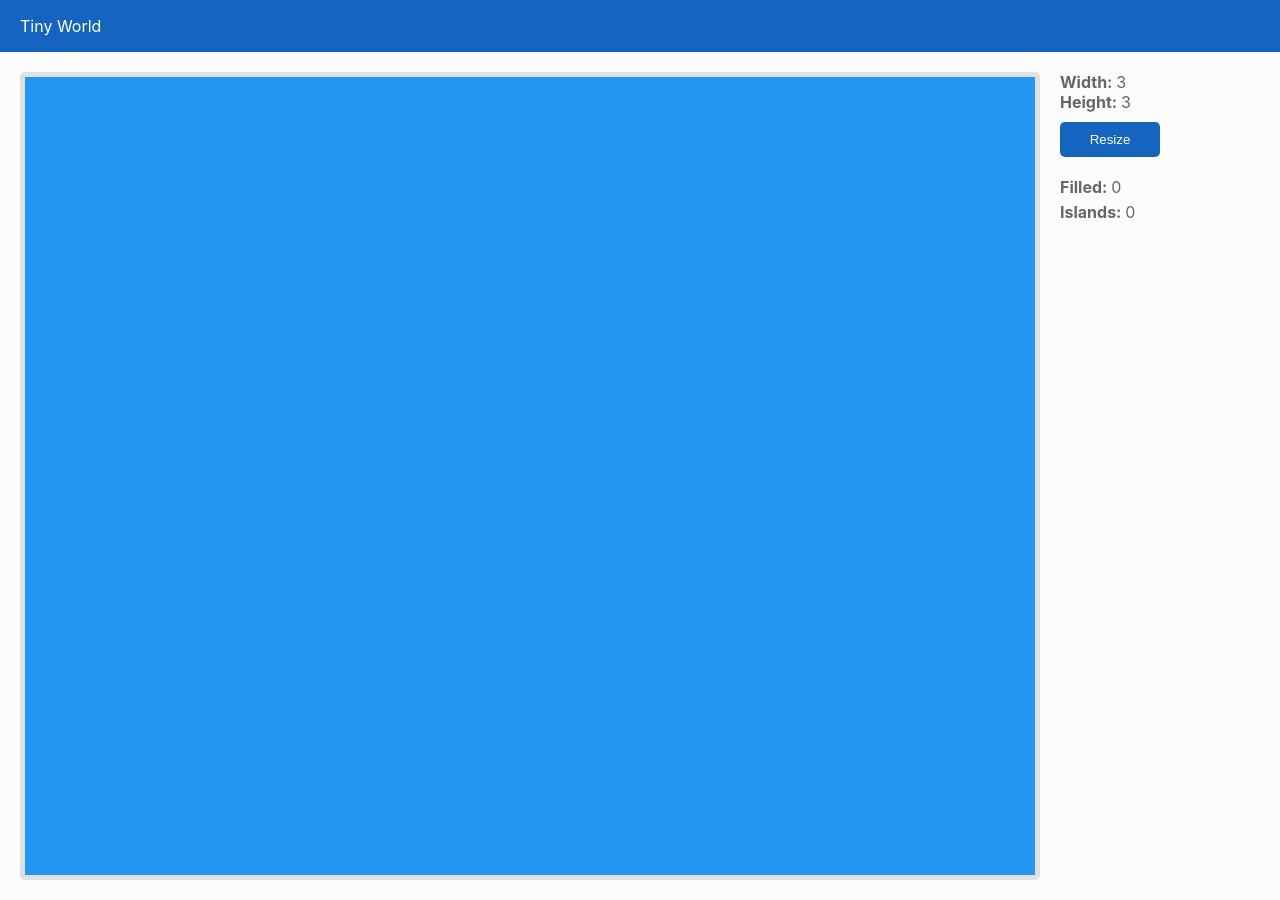
App › grid interaction
Click the 1st cell at (193, 210), box [25,77,362,343]
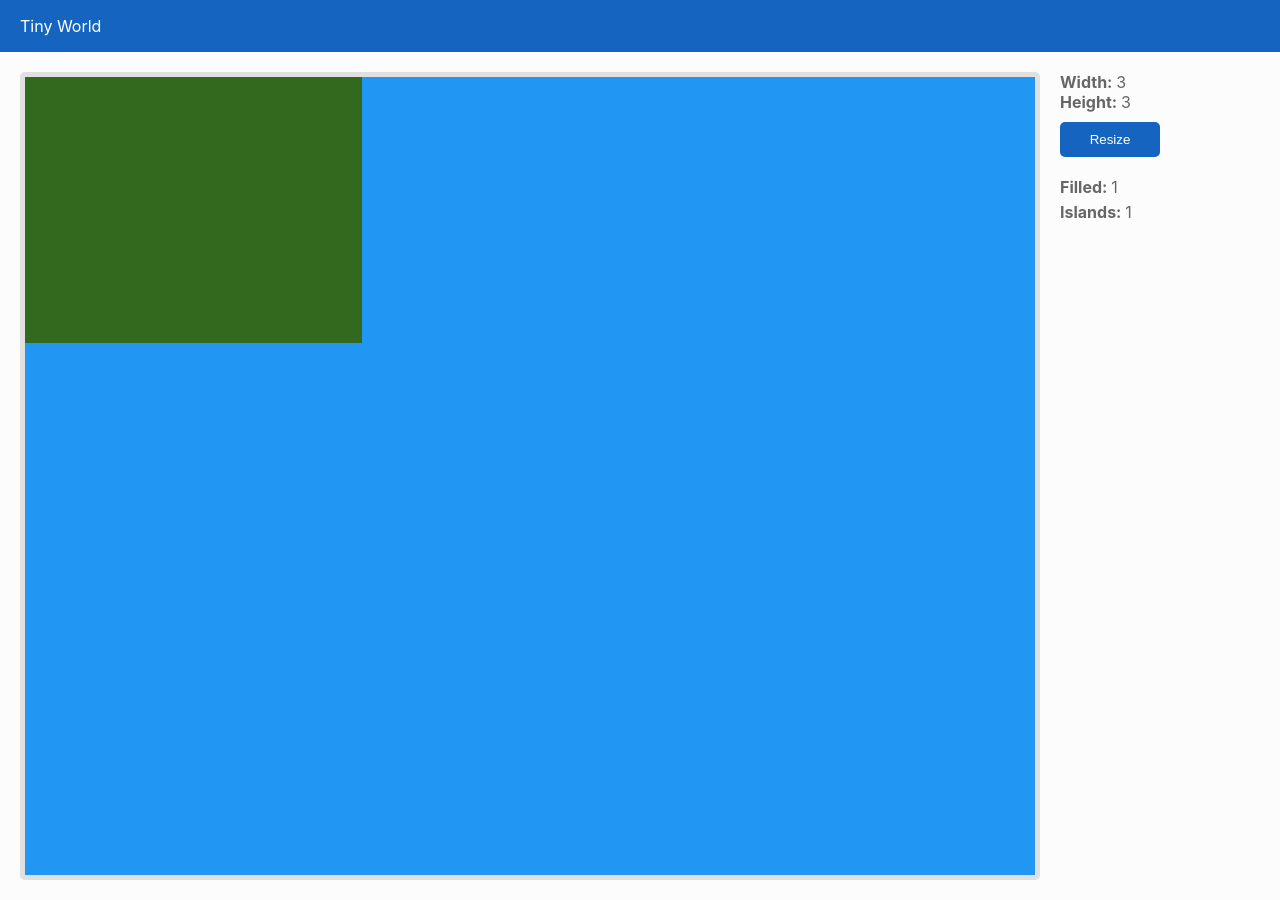
Check: the 1st cell has class "grid-cell--filled", box [25,77,362,343]
Click the 2nd cell at (530, 210), box [362,77,698,343]
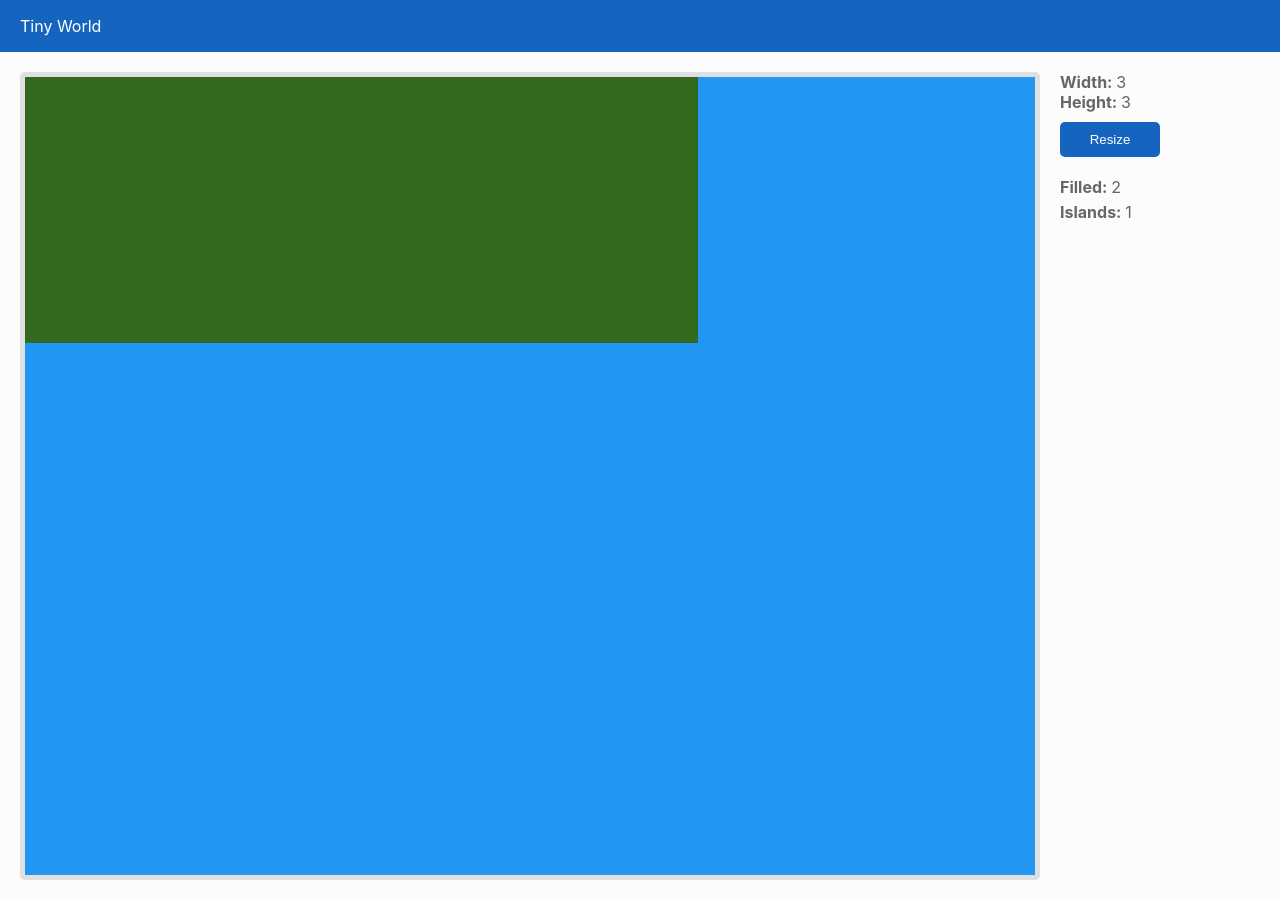
Check: the text named "Width:" reads "3", box [1116,72,1126,92]
Check: the text named "Islands:" reads "1", box [1125,202,1132,222]
Check: the text named "Filled:" reads "2", box [1111,177,1121,197]
Click the 6th cell at (867, 476), box [698,343,1035,609]
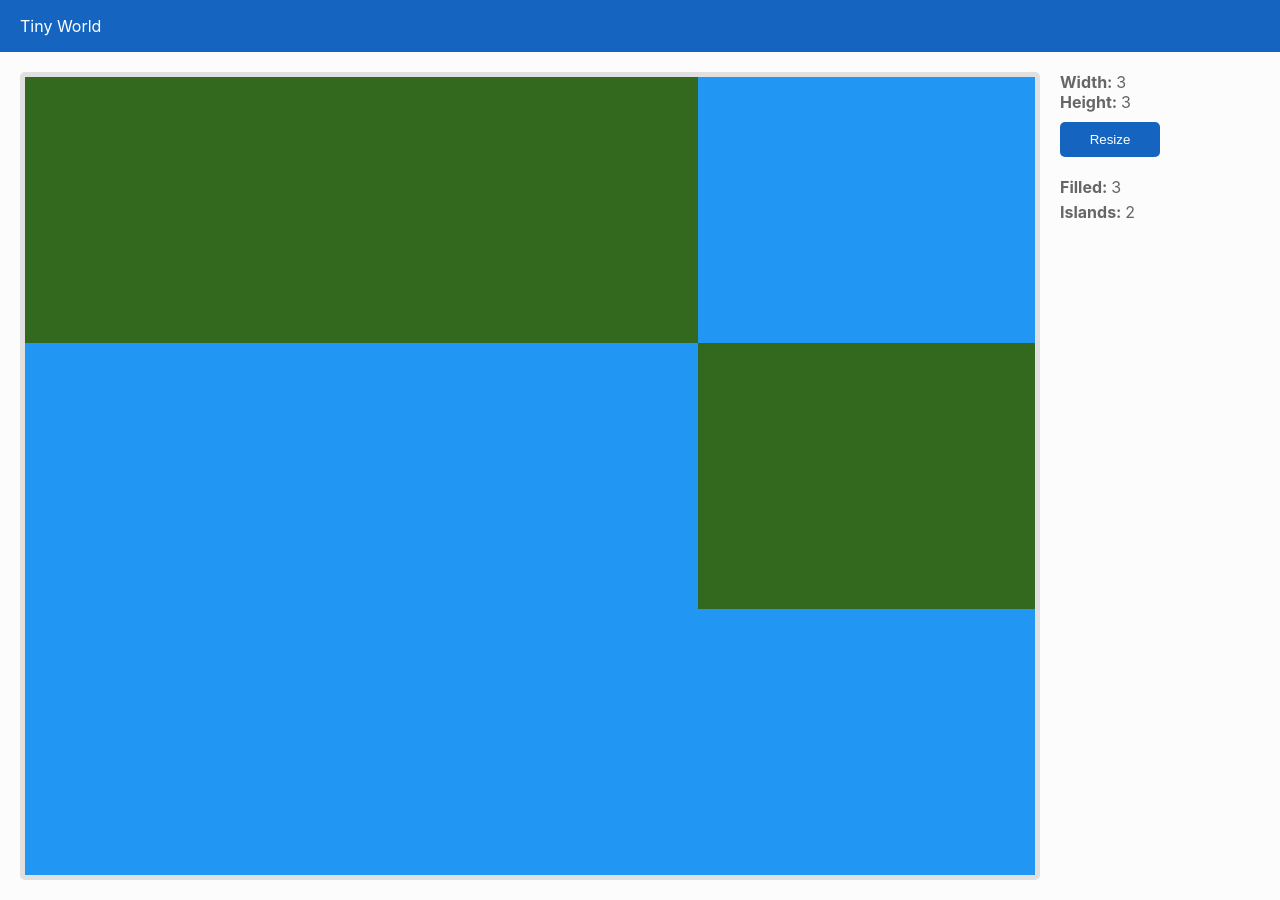
Check: the text named "Width:" reads "3", box [1116,72,1126,92]
Check: the text named "Filled:" reads "3", box [1111,177,1121,197]
Check: the text named "Islands:" reads "2", box [1125,202,1135,222]
Click the 2nd cell at (530, 210), box [362,77,698,343]
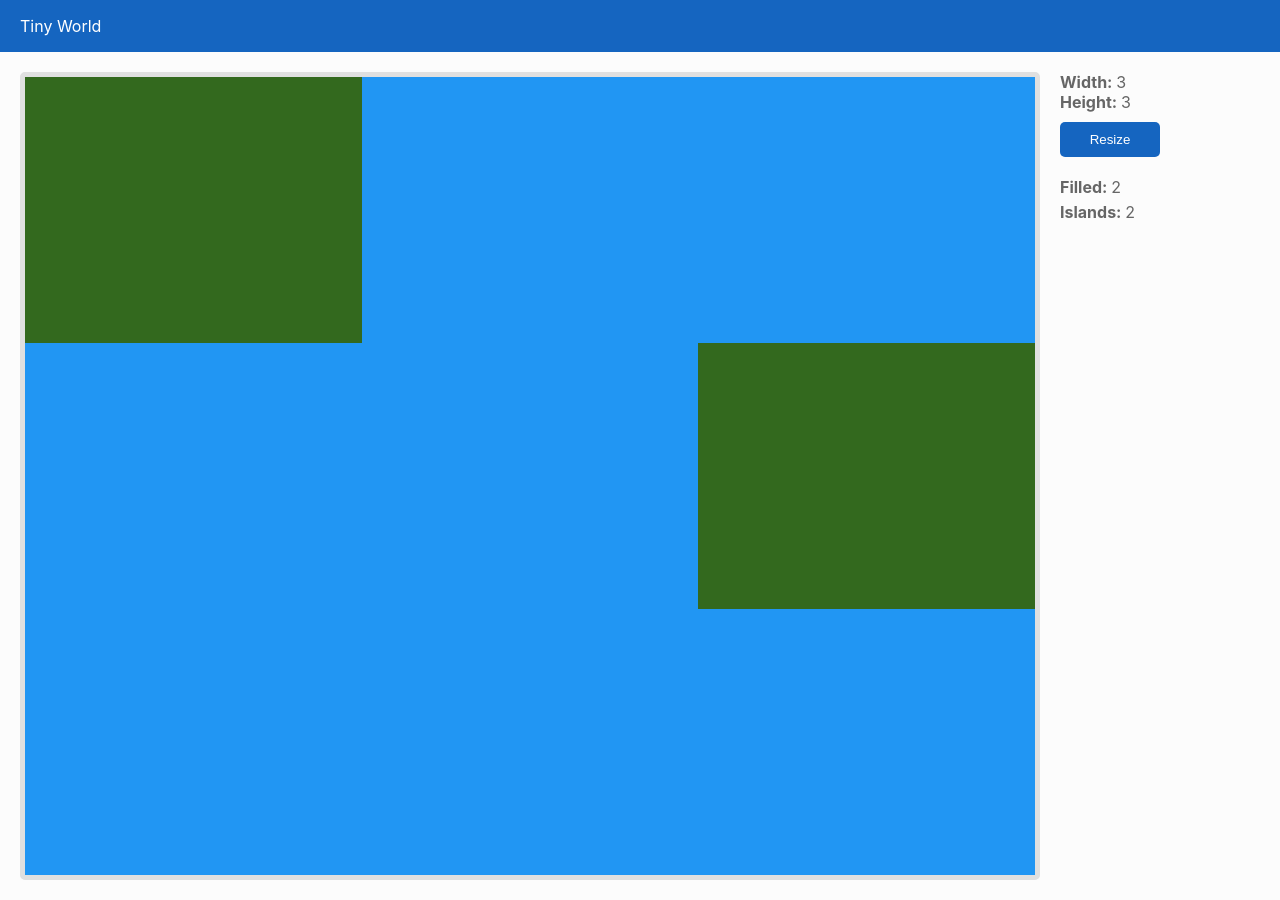
Check: the text named "Width:" reads "3", box [1116,72,1126,92]
Check: the text named "Islands:" reads "2", box [1125,202,1135,222]
Check: the text named "Filled:" reads "2", box [1111,177,1121,197]
